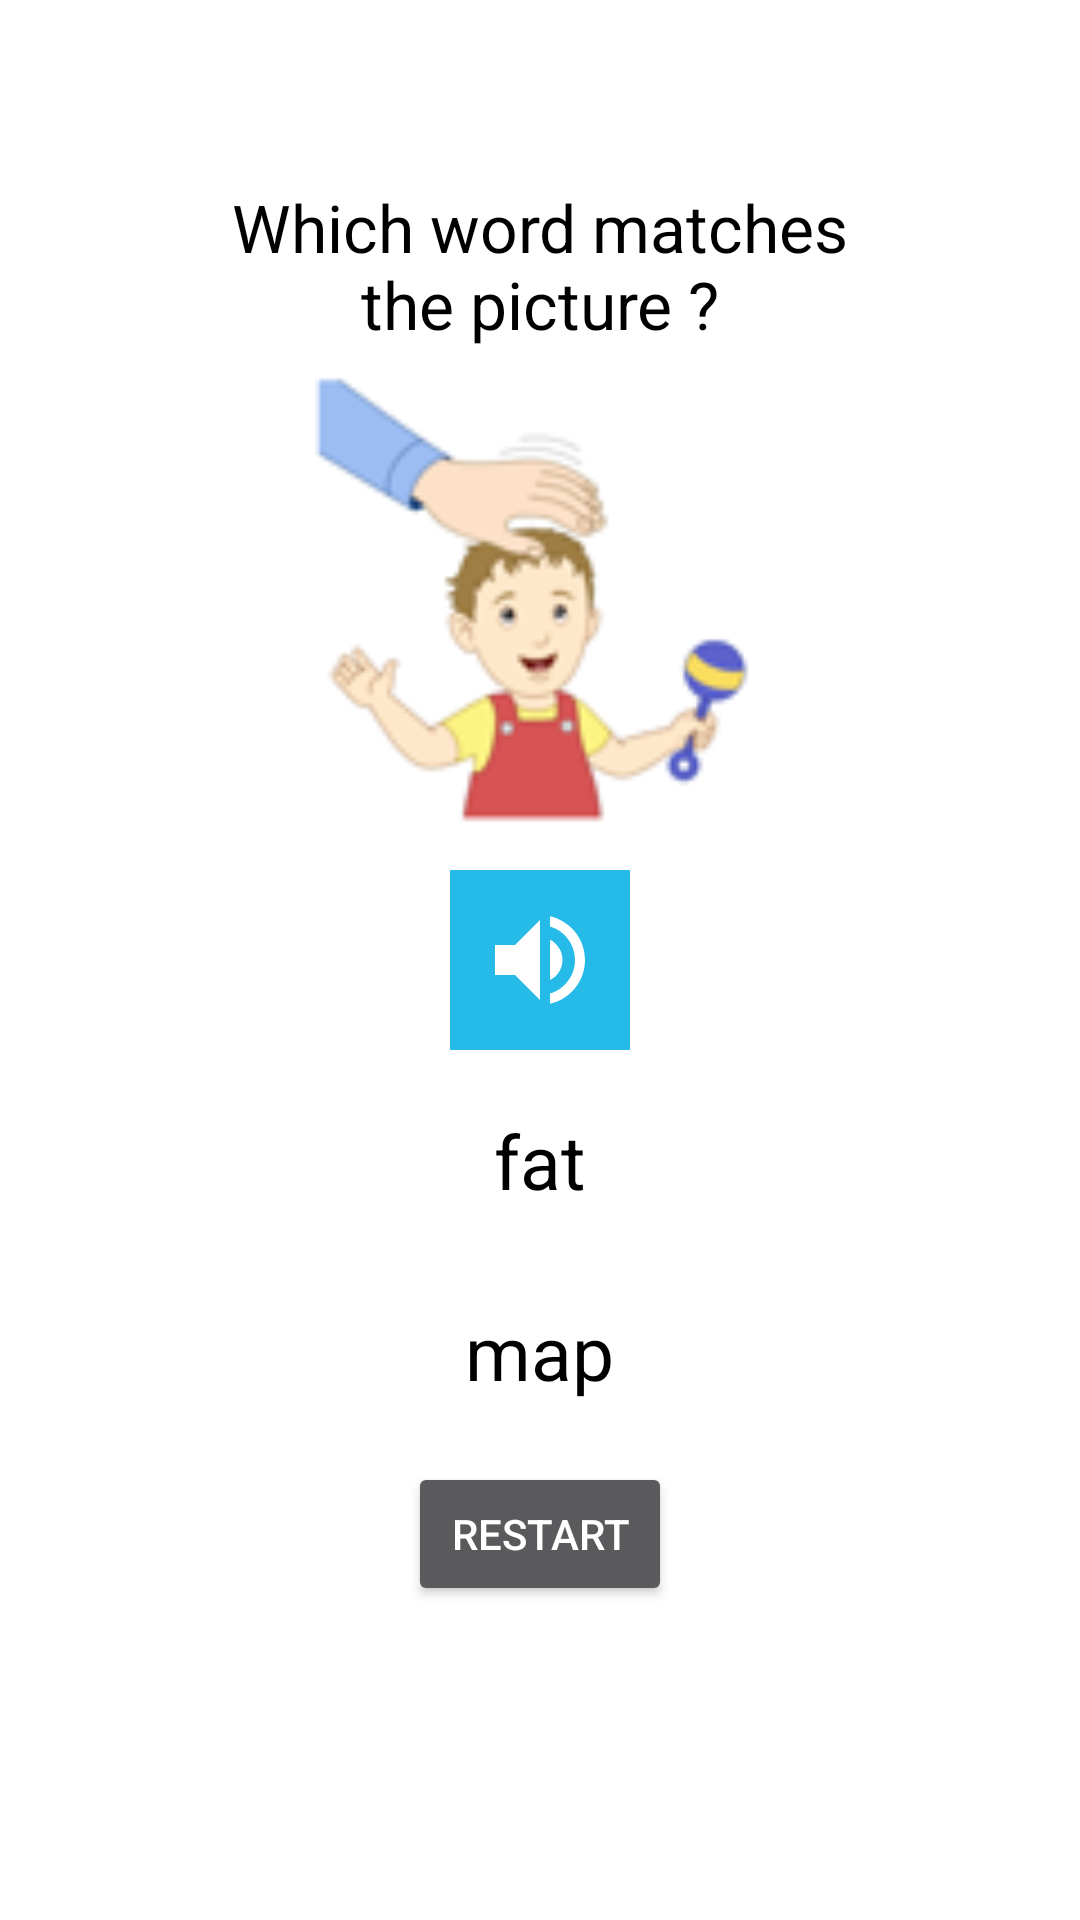

Where icons sit on this 1080*1920 app screen, as (x1, y1, x2, y2):
volume up: (450, 870, 630, 1050)
